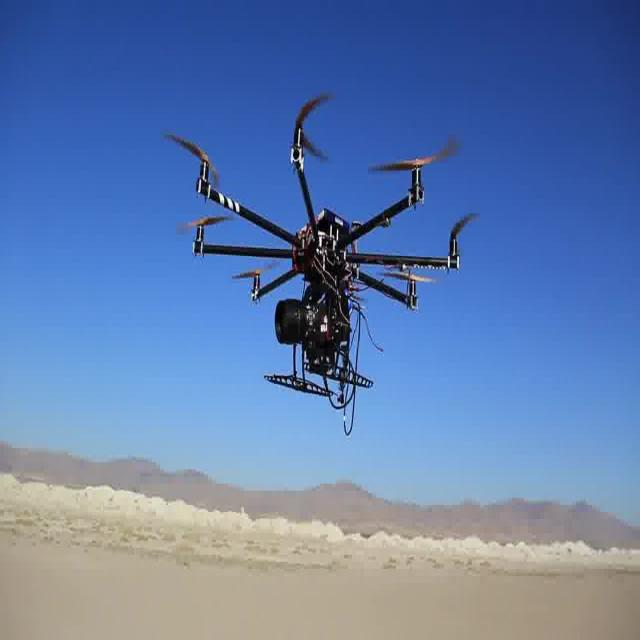drone: (147, 68, 485, 447)
